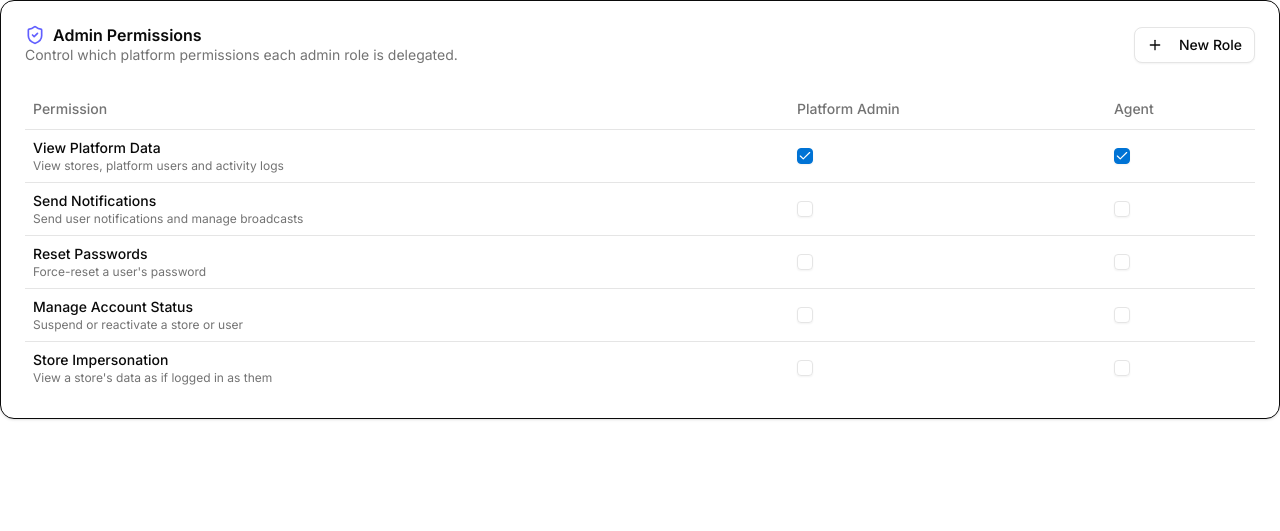
Test: AdminPermissionsCard › A-137: toggling a cell stages the change instead of writing it through immediately
The image size is (1280, 531).
Step 1. Click the checkbox named "send notifications for agent" → (1122, 208), box [1114,200,1130,216]
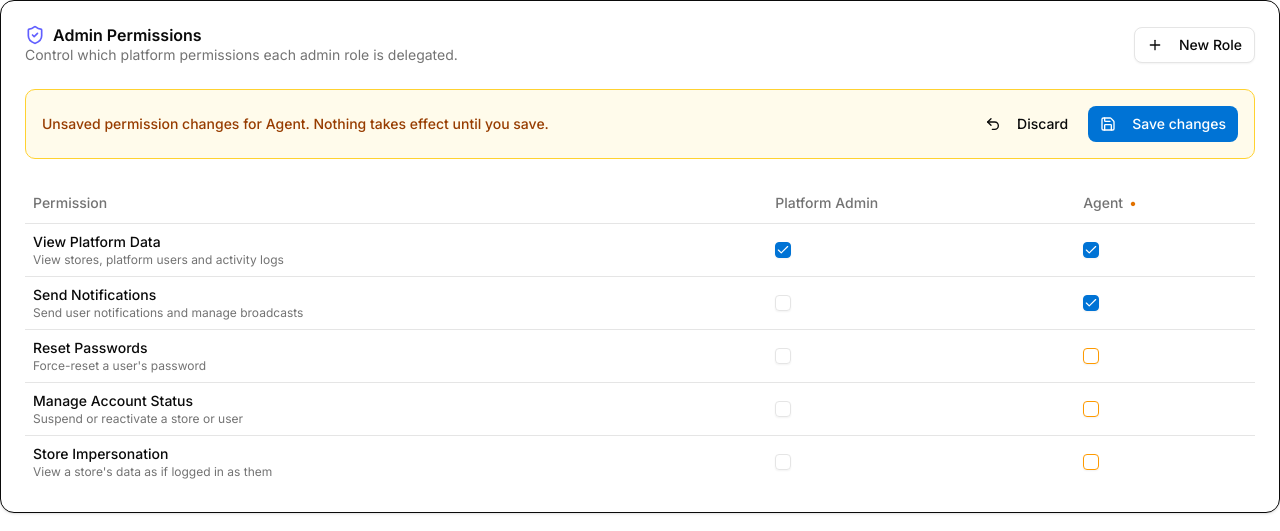
Check: the checkbox named "send notifications for agent" is checked, box [1083,294,1099,310]
Check: the text "Unsaved permission changes" is shown, box [42,115,262,132]
